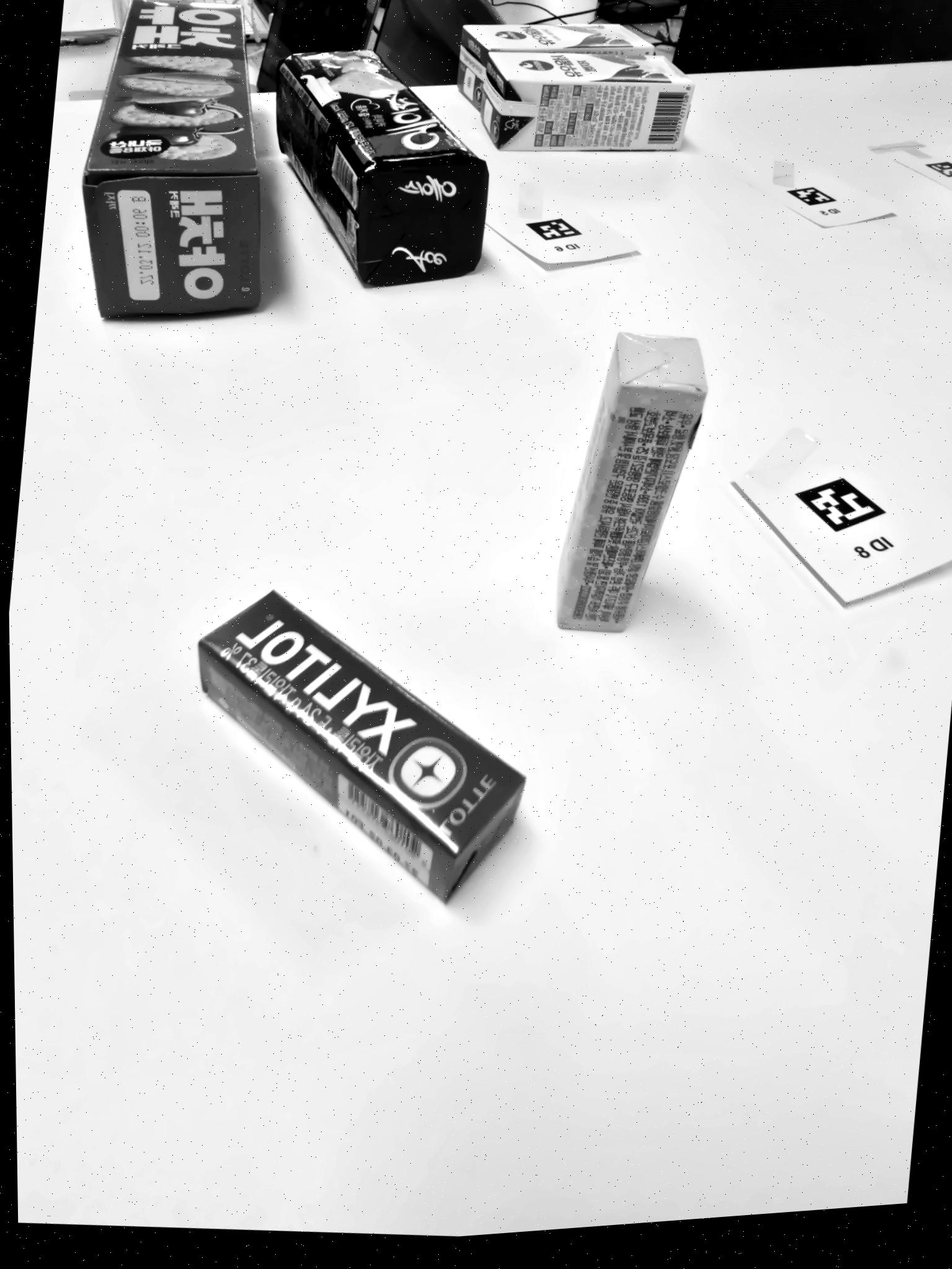gum_green: (199, 590, 524, 900)
gum_yellow: (558, 332, 707, 632)
